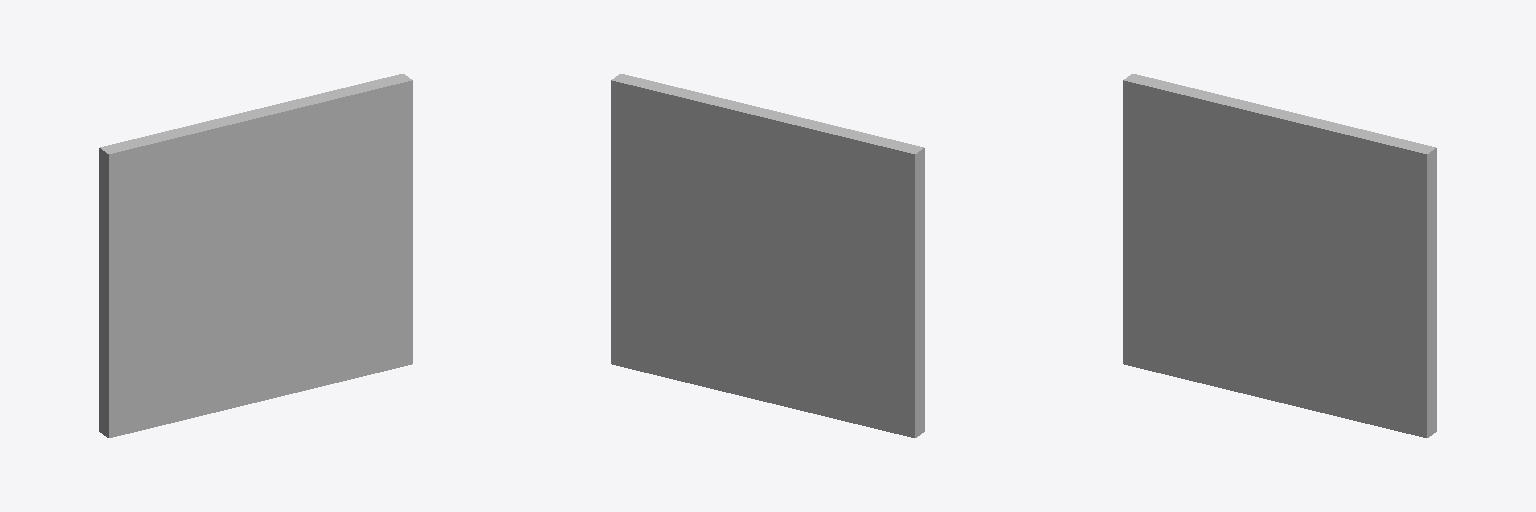
File: wall_d.obj
The picture shows the model from 3 angles: view 1: azimuth 30°, elevation 25°; view 2: azimuth 150°, elevation 25°; view 3: azimuth 330°, elevation 25°; orthographic projection.
Parts seen in each view (by area): view 1: Mesh1 wall_d1 Model; view 2: Mesh1 wall_d1 Model; view 3: Mesh1 wall_d1 Model.
Part boxes in pixels (left/top/right/bottom): Mesh1 wall_d1 Model: left=99, top=74, right=412, bottom=437; Mesh1 wall_d1 Model: left=611, top=74, right=924, bottom=437; Mesh1 wall_d1 Model: left=1123, top=74, right=1436, bottom=437.
Size of the model in its own units: 2.8 by 2.5 by 0.15.